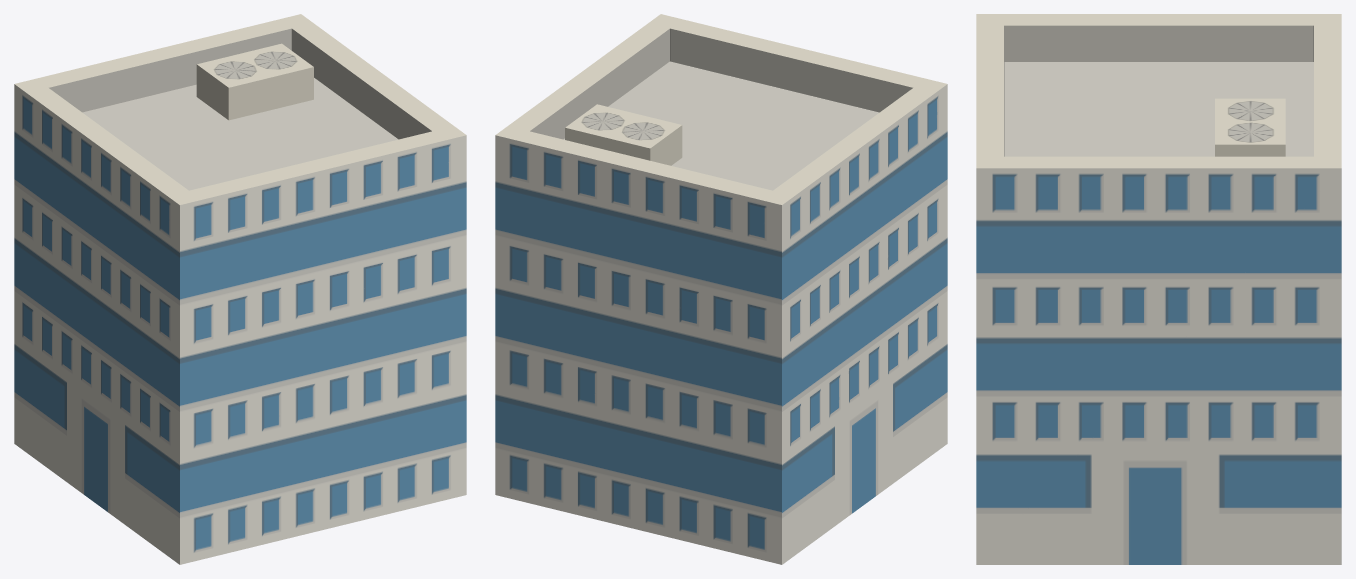
The model's file is building set 2_12.fbx.
3 renders of one model, left to right at view 1: azimuth 30°, elevation 25°; view 2: azimuth 150°, elevation 25°; view 3: azimuth 270°, elevation 25°, orthographic. The views are drawn at different scales.
Visible parts, largest first — view 1: pCube13; view 2: pCube13; view 3: pCube13.
Part boxes in pixels (x1=…): pCube13: x1=14, y1=14, x2=466, y2=564; pCube13: x1=495, y1=14, x2=947, y2=564; pCube13: x1=976, y1=14, x2=1341, y2=564.
Bounding box in the file's own units: 3.09 × 3.7 × 3.09.
